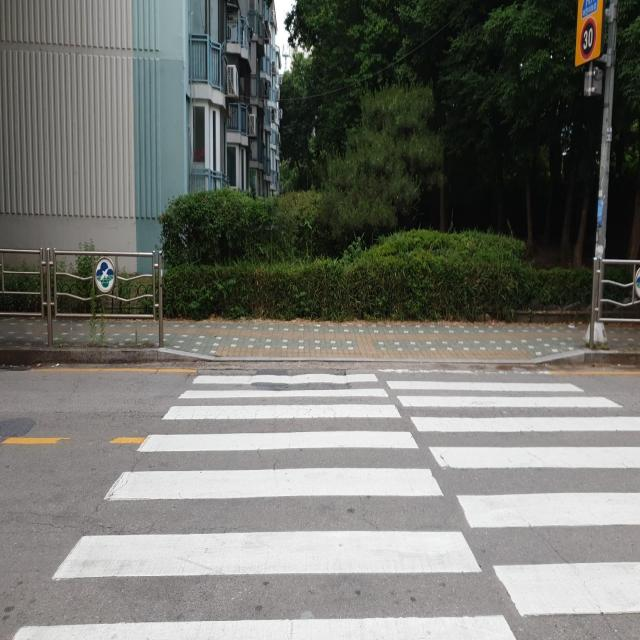횡단보도: (12, 373, 640, 639)
